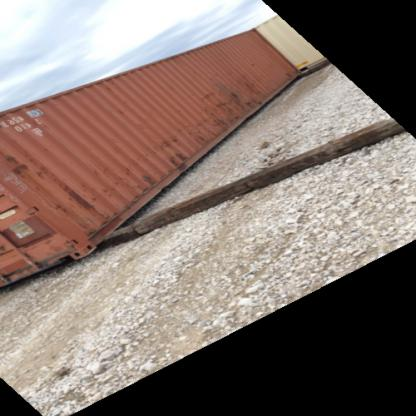Damage: (208, 80, 258, 112), (195, 110, 234, 143), (10, 156, 46, 191), (63, 179, 98, 213), (158, 142, 193, 170), (136, 168, 159, 196)
